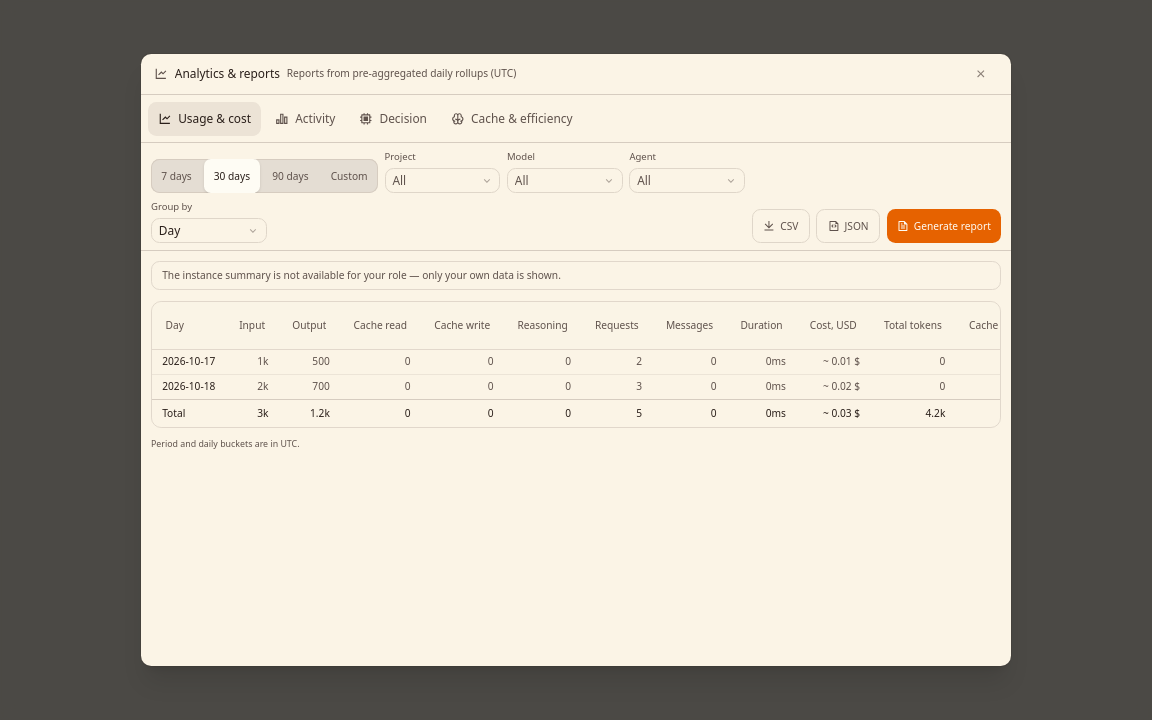
Test case: AnalyticsModal (ADR-102, волна 2) › 403 на decision: понятное сообщение без повторов и падения
The image size is (1152, 720).
What coordinates should you click on to do the following:
click the button "Decision"
I would click on:
 (393, 119)
Its box is [349,102,437,136].
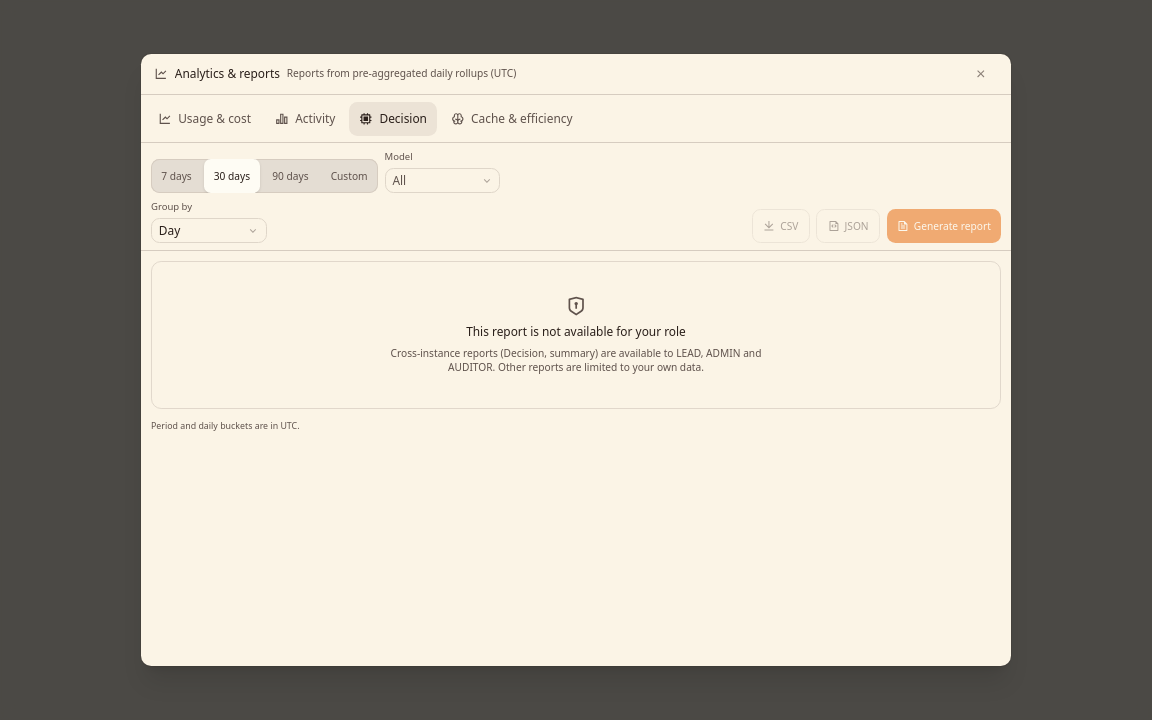
Expected: the element with test id "analytics-forbidden" is shown, [151,261,1001,410]
Expected: the element with test id "analytics-forbidden" shows "not available for your role", [466,324,686,340]
